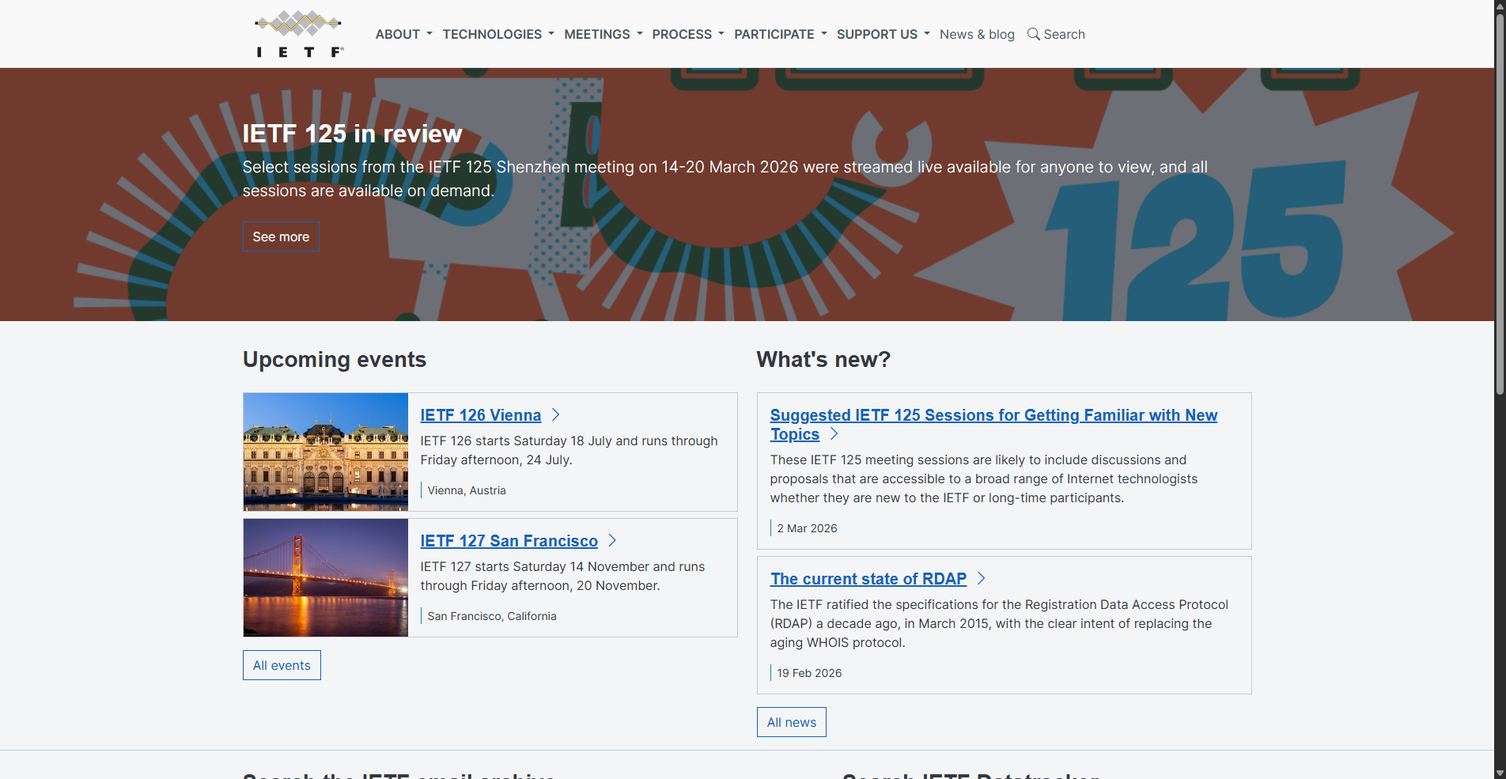button: (436, 18, 558, 56), (830, 18, 933, 56), (728, 18, 830, 56), (558, 18, 646, 56), (646, 18, 728, 56), (933, 18, 1021, 49), (369, 18, 436, 56), (242, 650, 321, 680), (242, 222, 320, 252), (1021, 18, 1092, 49), (757, 707, 827, 737)
dropdown: (436, 18, 558, 49), (830, 18, 933, 49), (728, 18, 830, 49), (558, 18, 646, 49), (646, 18, 728, 49), (369, 18, 436, 49)
link: (770, 406, 1217, 443), (248, 4, 351, 63), (770, 570, 989, 588), (420, 532, 620, 550), (420, 406, 564, 424)
